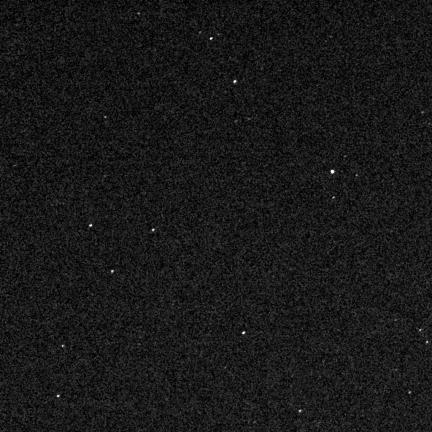blob: (331, 170, 335, 175), (233, 80, 238, 84), (89, 224, 93, 228), (210, 37, 214, 41), (62, 345, 65, 349), (243, 332, 246, 335), (57, 395, 60, 398), (152, 229, 155, 232), (333, 197, 336, 200), (111, 270, 113, 273), (356, 175, 359, 177)
